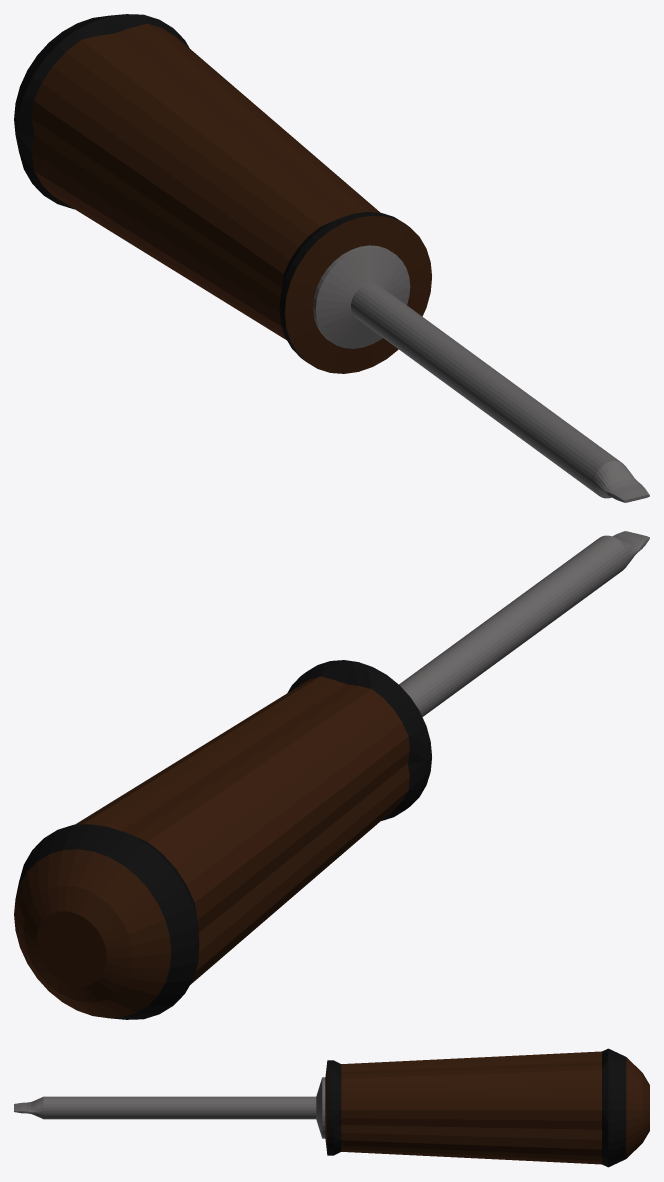
Rendered from Flat.dae.
3 views of the same model, one above another, from view 1: azimuth 30°, elevation 25°; view 2: azimuth 150°, elevation 25°; view 3: azimuth 270°, elevation 25° (orthographic). The views are drawn at different scales.
Parts seen in each view (by area): view 1: ScrewDriver_Flat; view 2: ScrewDriver_Flat; view 3: ScrewDriver_Flat.
Boxes of the visible parts, x1=… form: ScrewDriver_Flat: x1=14, y1=14, x2=649, y2=502; ScrewDriver_Flat: x1=14, y1=531, x2=649, y2=1019; ScrewDriver_Flat: x1=14, y1=1048, x2=649, y2=1167.
Size of the model in its own units: 0.1504 by 0.8111 by 0.1502.
